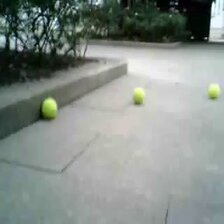tennis: (41, 98, 57, 117), (131, 87, 145, 103), (208, 84, 221, 99)
